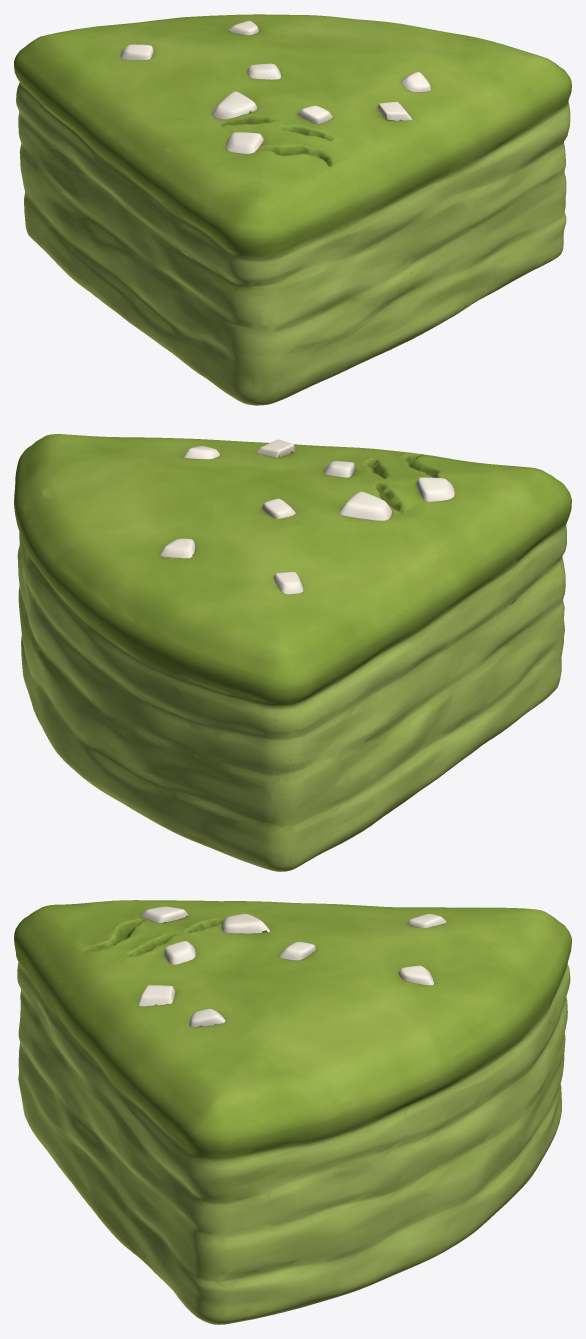
The model's file is scone--matcha-ground.glb.
3 views of the same model, one above another, from view 1: azimuth 30°, elevation 25°; view 2: azimuth 150°, elevation 25°; view 3: azimuth 270°, elevation 25° (orthographic). The views are drawn at different scales.
Parts seen in each view (by area): view 1: scone_matcha-ground; view 2: scone_matcha-ground; view 3: scone_matcha-ground.
Part boxes in pixels (<box>): scone_matcha-ground: <box>14,14,571,405</box>; scone_matcha-ground: <box>14,434,571,871</box>; scone_matcha-ground: <box>14,900,571,1324</box>.
Bounding box in the file's own units: 0.9382 × 0.4796 × 0.9787.
Materials: 1 (1 with a texture image).
